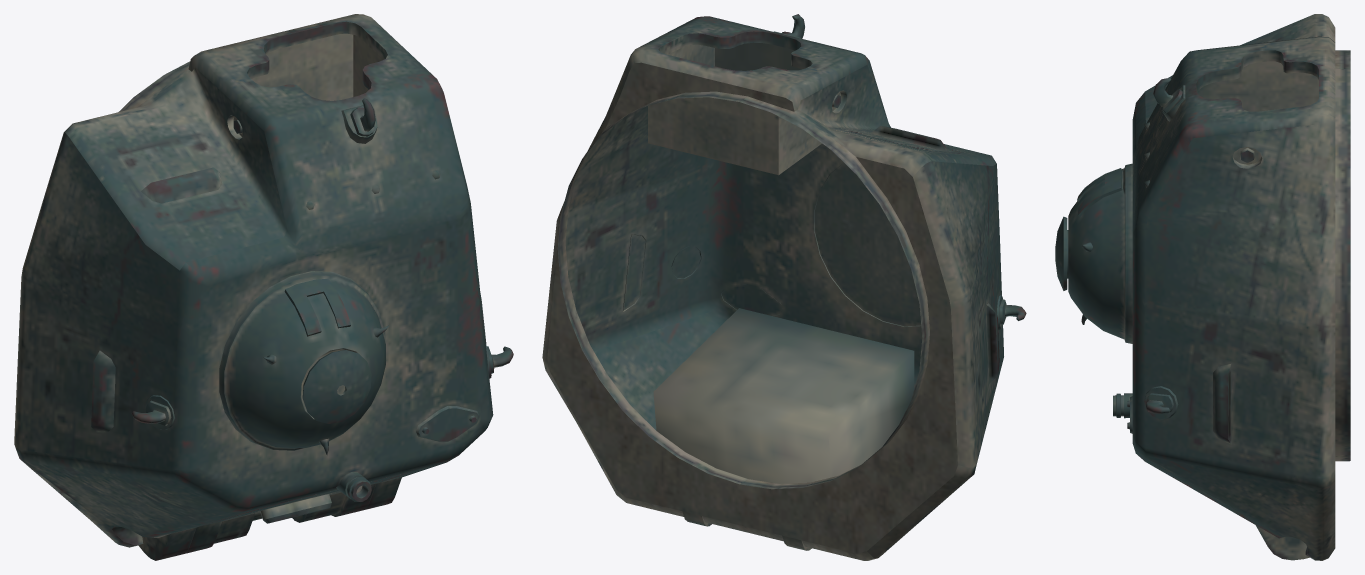
The model's file is Turret_01.glb.
3 renders of one model, left to right at view 1: azimuth 30°, elevation 25°; view 2: azimuth 150°, elevation 25°; view 3: azimuth 270°, elevation 25°, orthographic. The views are drawn at different scales.
Visible parts, largest first — view 1: set_0_group_0; view 2: set_0_group_0; view 3: set_0_group_0.
Part boxes in pixels (x1,y1,x2,y2): set_0_group_0: (14,14,513,560); set_0_group_0: (542,14,1026,560); set_0_group_0: (1055,14,1350,560).
Bounding box in the file's own units: 1.18 × 1.21 × 0.7182.
1 material, 1 textured.
